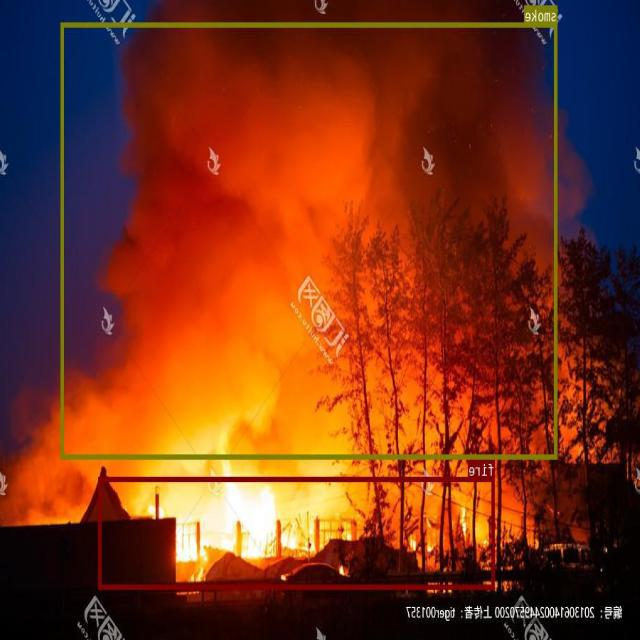fire: (99, 476, 496, 589)
smoke: (61, 22, 558, 458)
